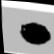correct: (16, 18, 54, 49)
